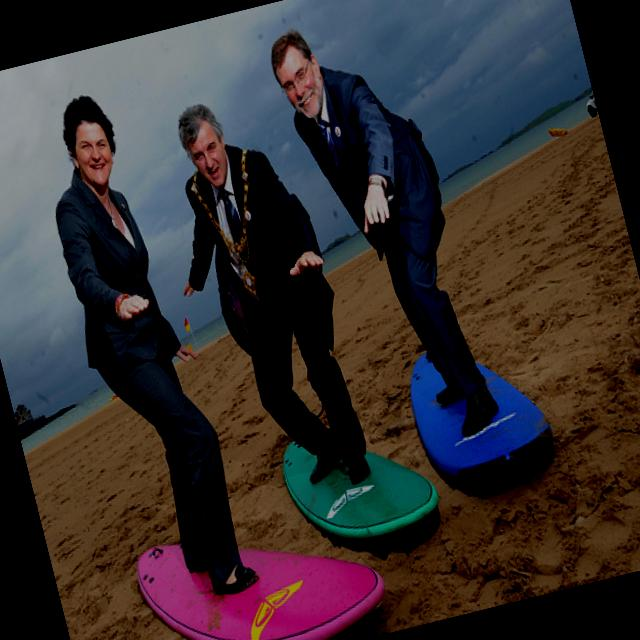Vehicle: (578, 82, 598, 116)
